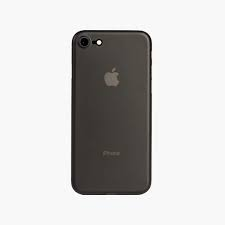iphone: (65, 27, 152, 198)
